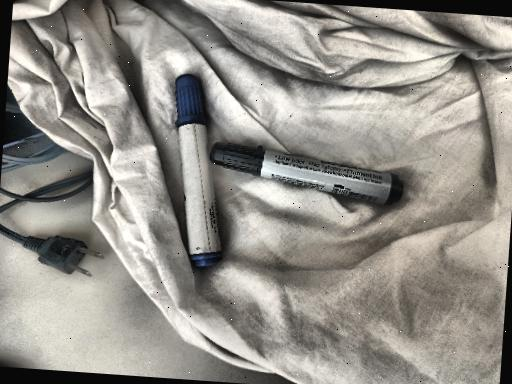marcador azul: (175, 75, 221, 267)
marcador negro: (209, 142, 403, 205)
